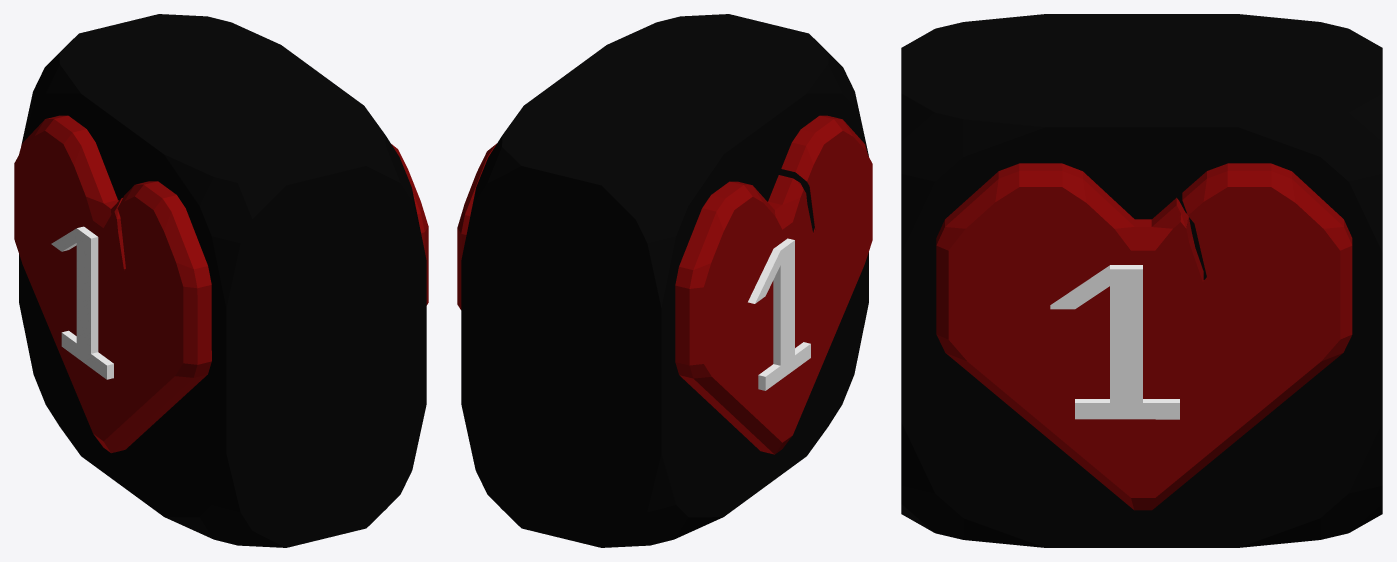
File: hard_world.glb
3 views of the same model, side by side, from view 1: azimuth 30°, elevation 25°; view 2: azimuth 150°, elevation 25°; view 3: azimuth 270°, elevation 25° (orthographic). The views are drawn at different scales.
Parts seen in each view (by area): view 1: Cube, Plane.001, Cube.002, Plane; view 2: Cube, Plane.001, Cube.002, Plane; view 3: Cube, Plane, Cube.001.
Boxes of the visible parts, x1,y1,x2,y2 form: Cube: (19,14,426,547); Plane.001: (14,115,211,453); Cube.002: (51,226,113,379); Plane: (391,144,428,305); Cube: (461,14,868,547); Plane.001: (675,115,872,454); Cube.002: (748,238,810,390); Plane: (457,143,496,309); Cube: (901,14,1382,547); Plane: (936,163,1352,510); Cube.001: (1050,265,1179,419).
Size of the model in its own units: 1.17 by 1.55 by 1.61.
